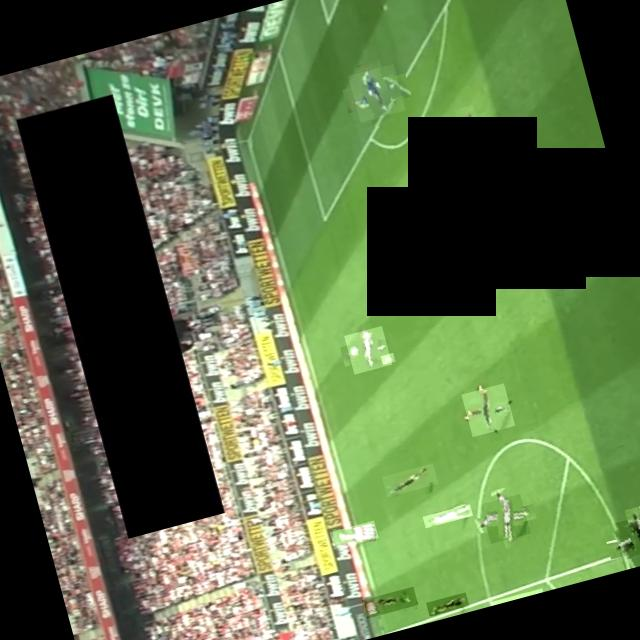ball: (380, 352, 395, 364)
goalkeeper: (348, 62, 406, 121)
soccer-player: (460, 382, 514, 436), (445, 110, 496, 162), (480, 492, 530, 542), (344, 324, 392, 373), (381, 462, 438, 496), (362, 585, 418, 617), (612, 509, 640, 569), (329, 519, 378, 548), (422, 502, 472, 526), (490, 586, 542, 606), (426, 591, 468, 615)
